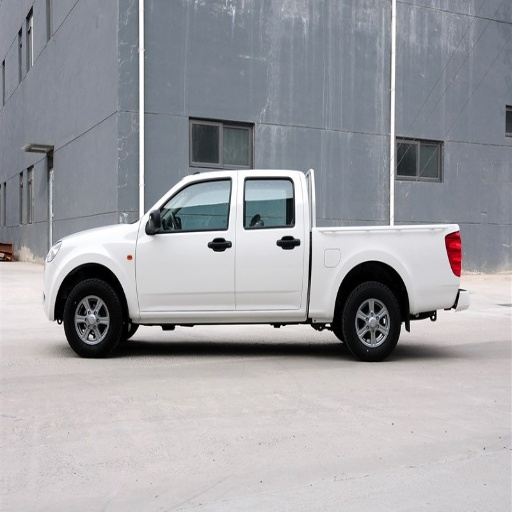back_left_door: (236, 176, 307, 307)
trunk: (308, 227, 454, 316)
